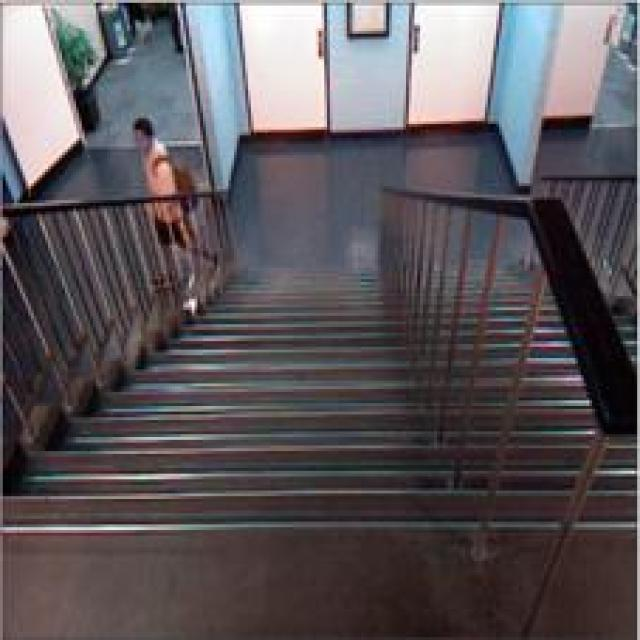stair: (62, 392, 412, 581)
